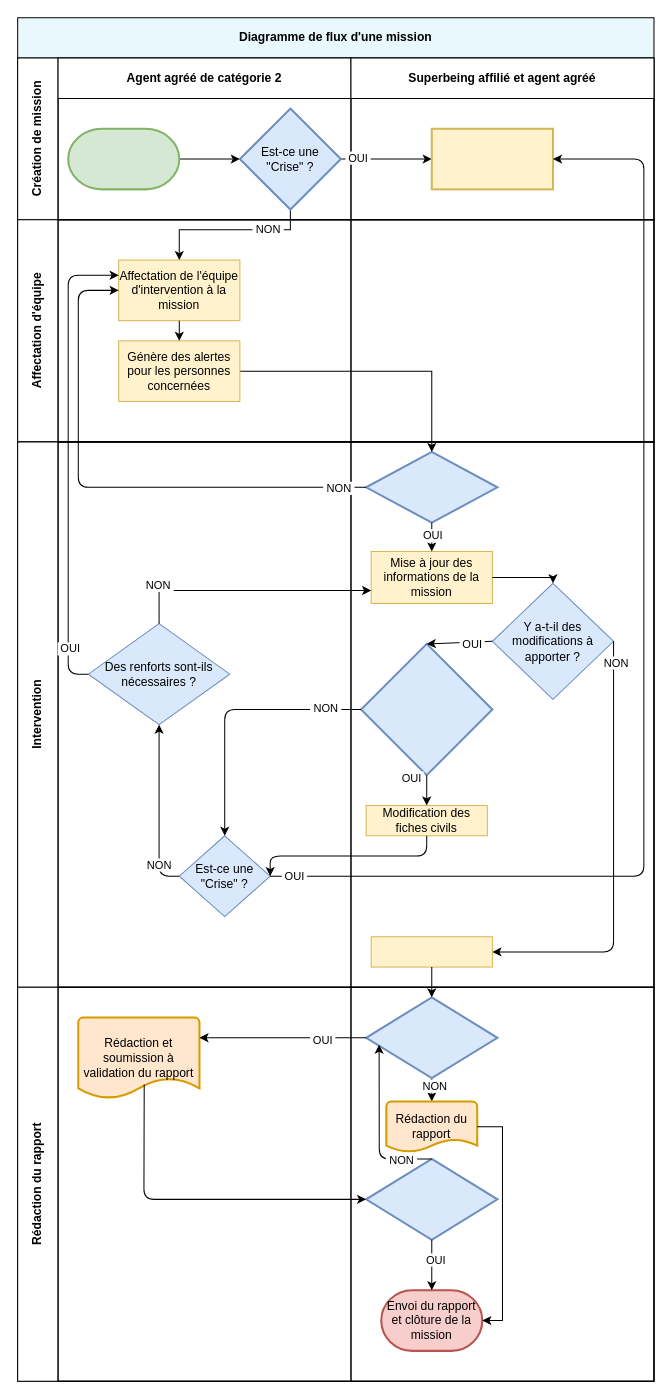
Image size: 672x1399. Some labels were removed from this diagram. The box of each missing label's shape, as (x1, y1, x2, y2) in pixels:
Accepte la mission: (365, 450, 498, 523)
Création d'une mission: (67, 127, 180, 190)
Des modifications civiles sont-elles nécessaires ?: (360, 642, 493, 776)
Délégation de rédaction de rapport: (365, 996, 498, 1079)
Génère une alerte spécial "Crise": (430, 127, 553, 190)
Signalement de fin d'intervention: (370, 936, 492, 967)
Validation du rapport: (365, 1157, 498, 1240)
